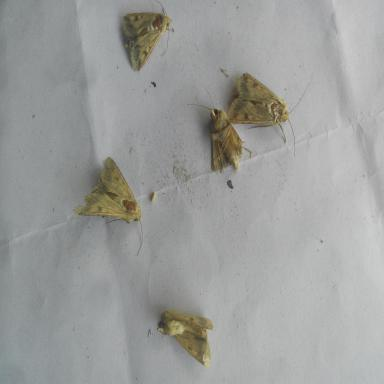abw: (222, 68, 314, 160), (70, 154, 146, 259), (184, 82, 253, 178), (118, 0, 177, 76), (153, 307, 216, 371)
